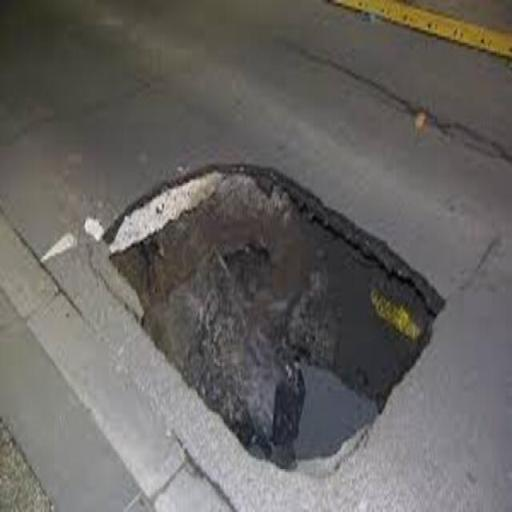Concentric_Crack: (107, 166, 444, 475)
